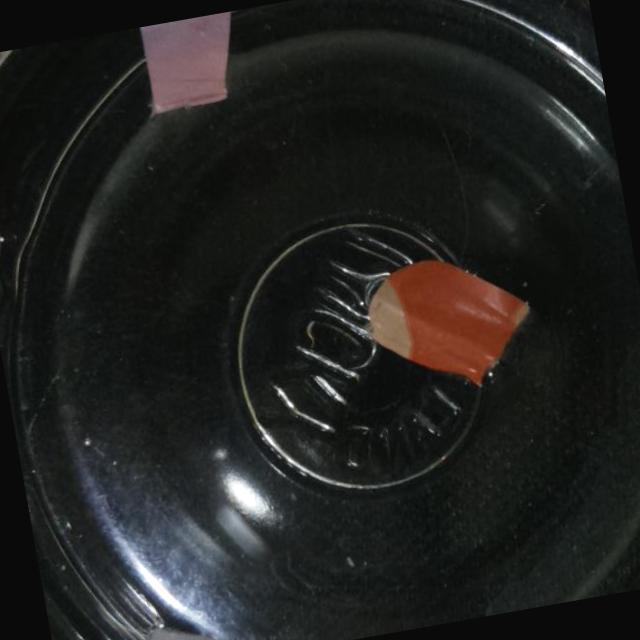fiber: (358, 241, 545, 409), (136, 11, 248, 121), (122, 611, 243, 640), (0, 182, 14, 305)
